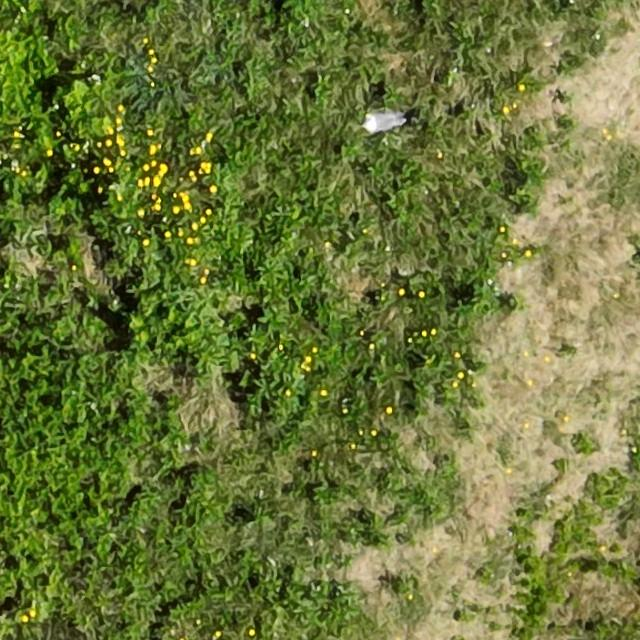umineko: (364, 113, 401, 132)
